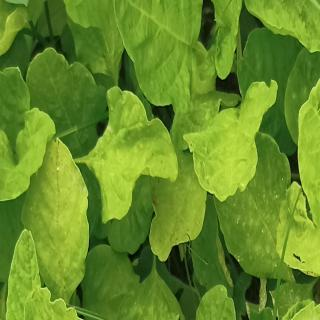karat_putih: (32, 153, 89, 294), (99, 96, 170, 208), (226, 154, 282, 276)
virus_keriting: (275, 73, 320, 278)
